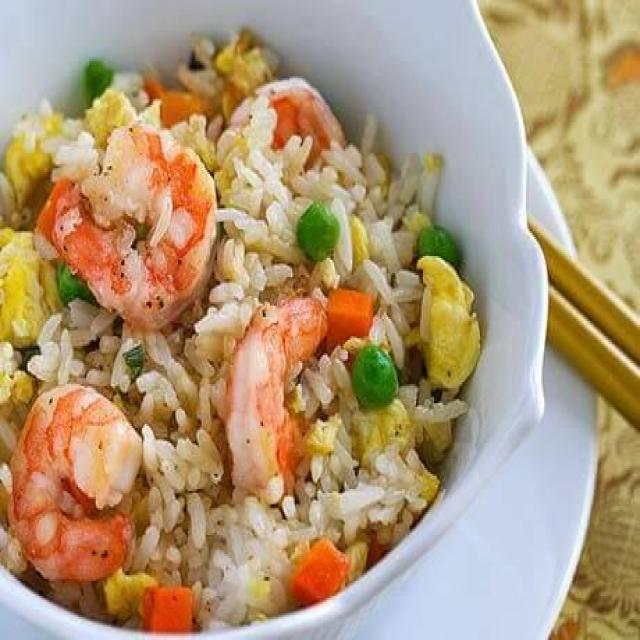Nasi Goreng: (0, 27, 483, 630)
